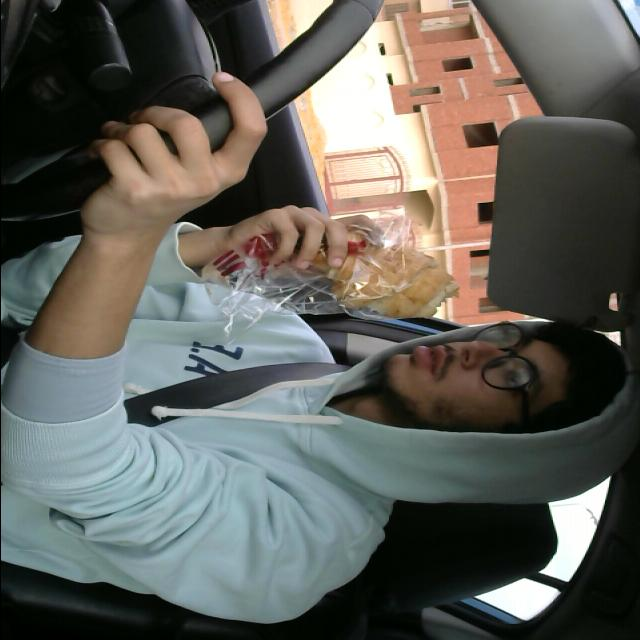eating: (308, 228, 468, 324)
